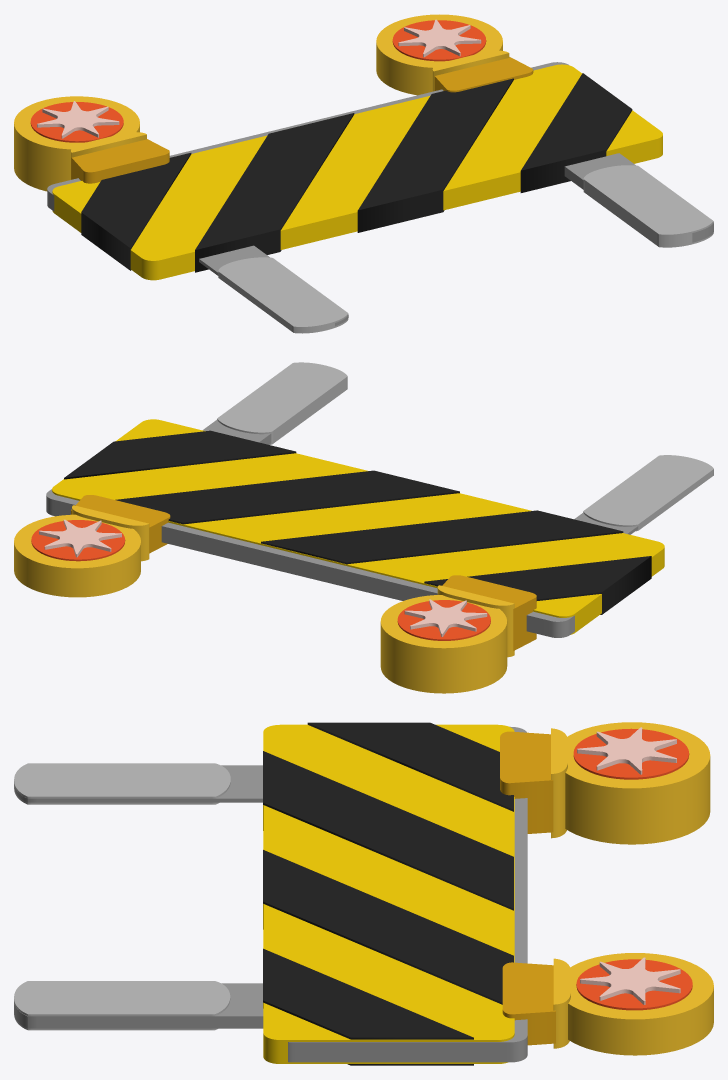
File: emoji_u1f6a7.glb
3 renders of one model, top to bottom at view 1: azimuth 30°, elevation 25°; view 2: azimuth 150°, elevation 25°; view 3: azimuth 270°, elevation 25°, orthographic. The views are drawn at different scales.
Visible parts, largest first — view 1: emoji_u1f6a7; view 2: emoji_u1f6a7; view 3: emoji_u1f6a7.
Part boxes in pixels (left/top/right/bottom): emoji_u1f6a7: left=14, top=14, right=713, bottom=333; emoji_u1f6a7: left=14, top=362, right=713, bottom=693; emoji_u1f6a7: left=14, top=722, right=713, bottom=1065.
Bounding box in the file's own units: 0.0337 × 0.0034 × 0.0316.
